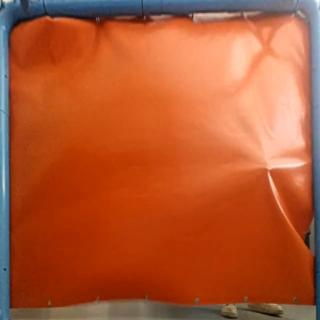Hit-hRxx: (260, 162, 273, 176)
